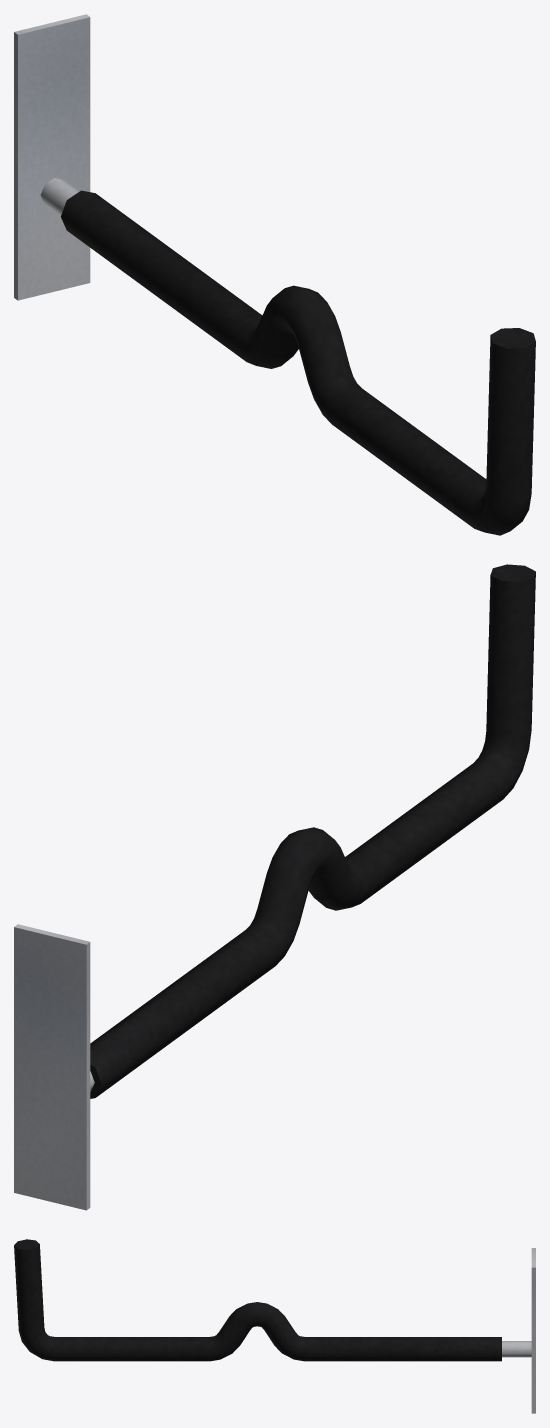
The model's file is haken_gewehr_fern.obj.
The picture shows the model from 3 angles, top to bottom: view 1: azimuth 30°, elevation 25°; view 2: azimuth 150°, elevation 25°; view 3: azimuth 270°, elevation 25°; orthographic projection. The views are drawn at different scales.
Parts seen in each view (by area): view 1: Vorlage_Haken_gewehr_fern; view 2: Vorlage_Haken_gewehr_fern; view 3: Vorlage_Haken_gewehr_fern.
Part boxes in pixels (x1=…): Vorlage_Haken_gewehr_fern: x1=14, y1=14, x2=535, y2=535; Vorlage_Haken_gewehr_fern: x1=14, y1=564, x2=535, y2=1210; Vorlage_Haken_gewehr_fern: x1=14, y1=1239, x2=535, y2=1413.
Bounding box in the file's own units: 0.016 × 0.0612 × 0.1813.
Materials: 2 (2 with a texture image).
